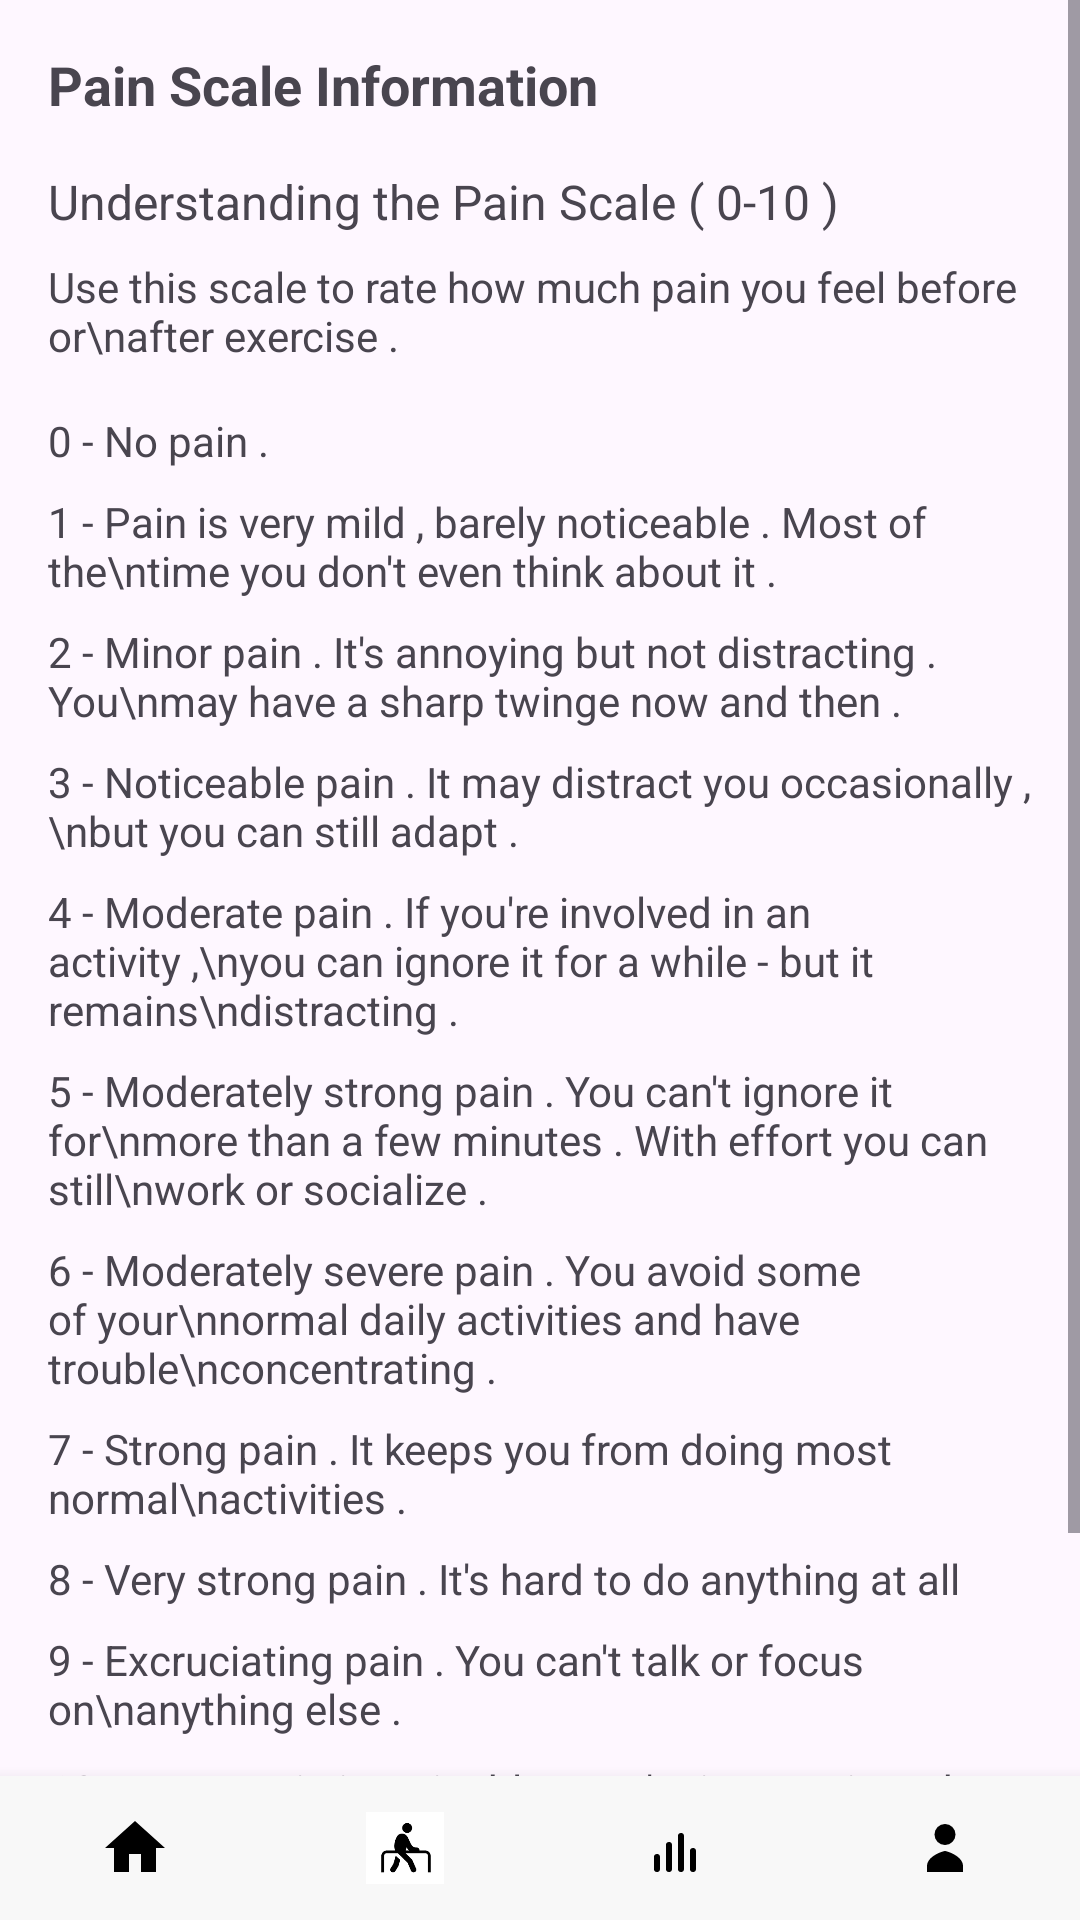

Point at icon controls on the screen. Image size 1080px×1920px, points as point (x, y).
excersise: point (406, 1848)
home: point (135, 1846)
profile: point (945, 1848)
progress: point (675, 1852)
